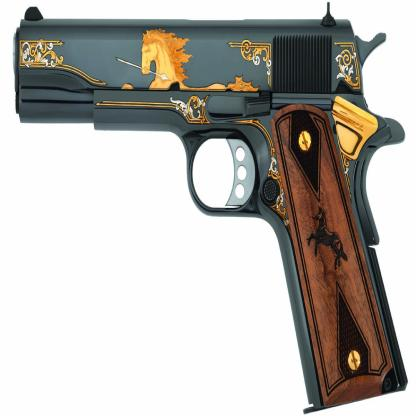handgun: (13, 7, 408, 412)
